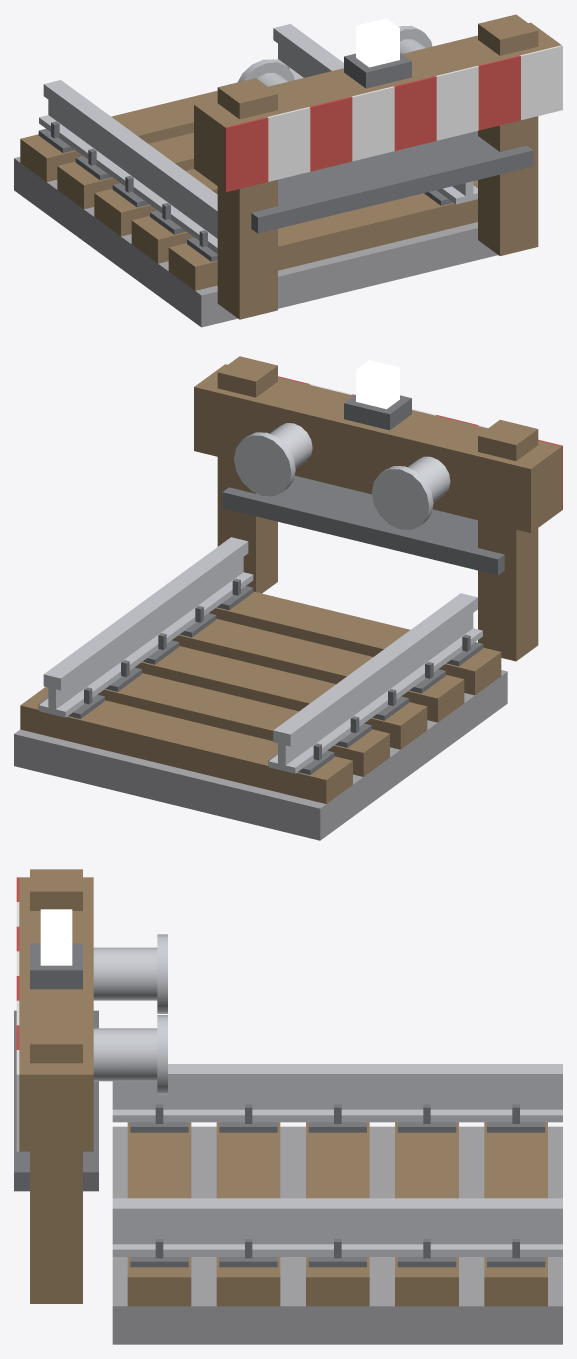
Rendered from rail_stop.glb.
The picture shows the model from 3 angles, top to bottom: view 1: azimuth 30°, elevation 25°; view 2: azimuth 150°, elevation 25°; view 3: azimuth 270°, elevation 25°; orthographic projection. The views are drawn at different scales.
Parts seen in each view (by area): view 1: rail; view 2: rail; view 3: rail.
Boxes of the visible parts, bbox=[...] form: rail: bbox=[14, 14, 562, 327]; rail: bbox=[14, 356, 562, 840]; rail: bbox=[14, 869, 562, 1344].
Size of the model in its own units: 0.88 by 0.7 by 1.03.
